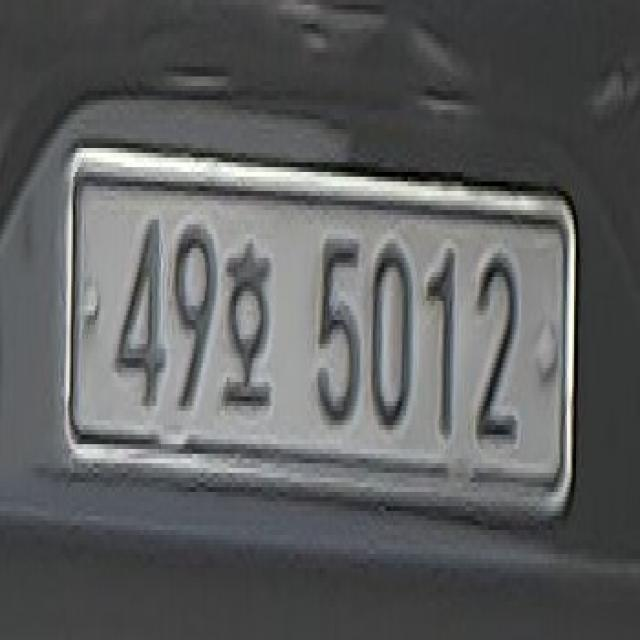0: (370, 230, 416, 442)
1: (425, 235, 460, 454)
2: (471, 241, 524, 458)
4: (114, 211, 168, 420)
5: (313, 230, 367, 444)
9: (171, 210, 219, 424)
ho: (222, 218, 278, 430)
license_plate: (64, 171, 580, 524)
